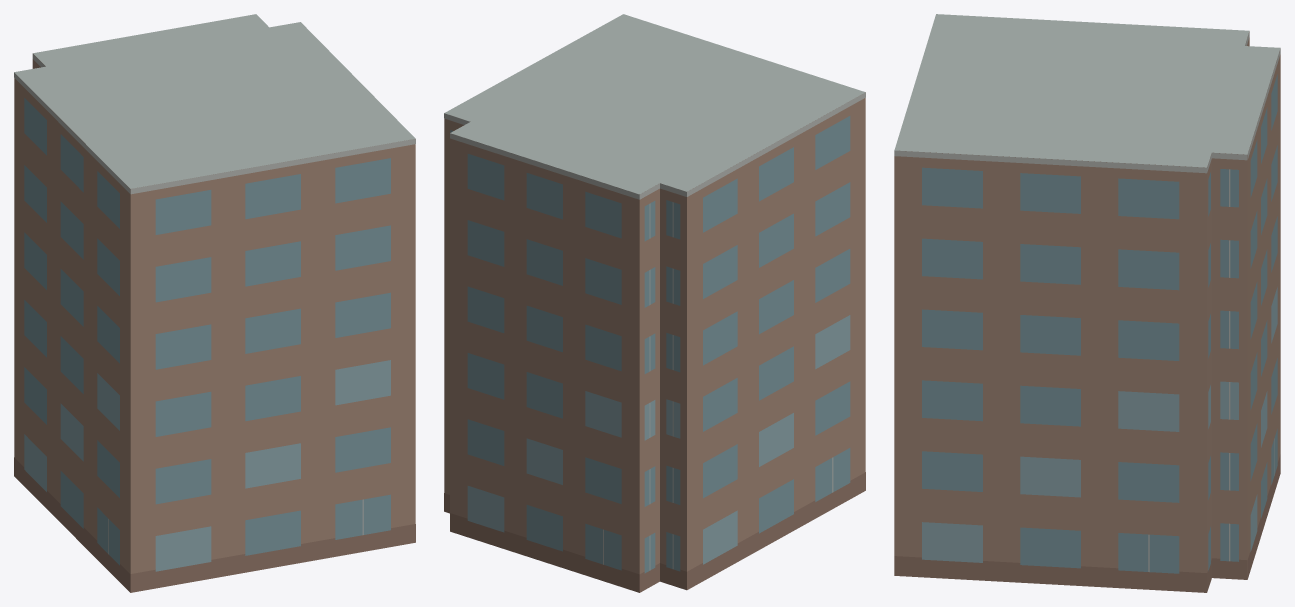
The model's file is survey-upis-32899942.glb.
3 views of the same model, side by side, from view 1: azimuth 30°, elevation 25°; view 2: azimuth 150°, elevation 25°; view 3: azimuth 270°, elevation 25° (orthographic). The views are drawn at different scales.
Visible parts, largest first — view 1: survey-upis-32899942.tmp; view 2: survey-upis-32899942.tmp; view 3: survey-upis-32899942.tmp.
Boxes of the visible parts, x1,y1,x2,y2 form: survey-upis-32899942.tmp: (14, 14, 415, 592); survey-upis-32899942.tmp: (444, 14, 865, 592); survey-upis-32899942.tmp: (894, 14, 1280, 592).
Bounding box in the file's own units: 14.18 × 18.3 × 15.07.
